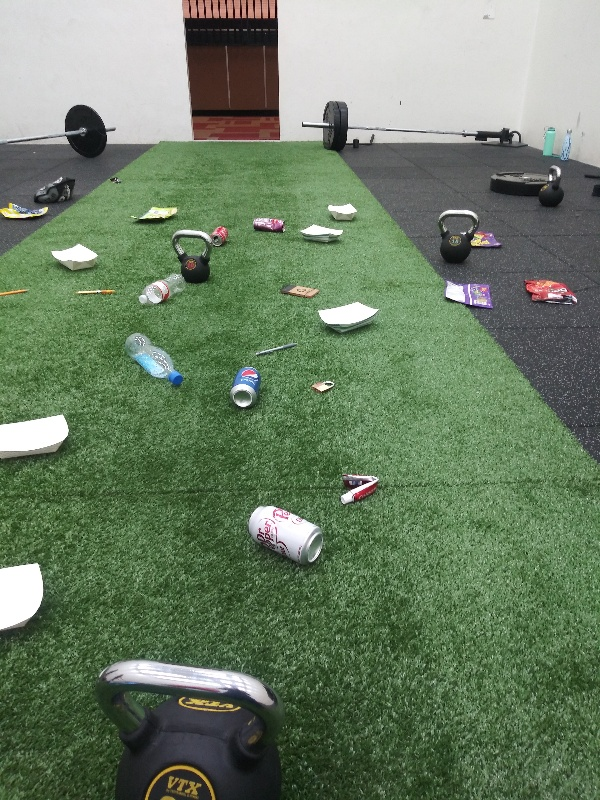bag: (516, 275, 581, 309), (437, 276, 495, 311), (2, 197, 54, 223), (457, 225, 504, 253), (126, 201, 181, 224)
bottle: (119, 328, 187, 388), (135, 271, 189, 308)
can: (242, 503, 325, 565), (225, 363, 267, 411), (247, 214, 291, 235), (207, 225, 229, 248)
plate: (1, 407, 77, 462), (1, 557, 48, 635), (315, 297, 386, 338), (49, 240, 104, 273), (298, 220, 348, 248), (326, 201, 359, 224)
